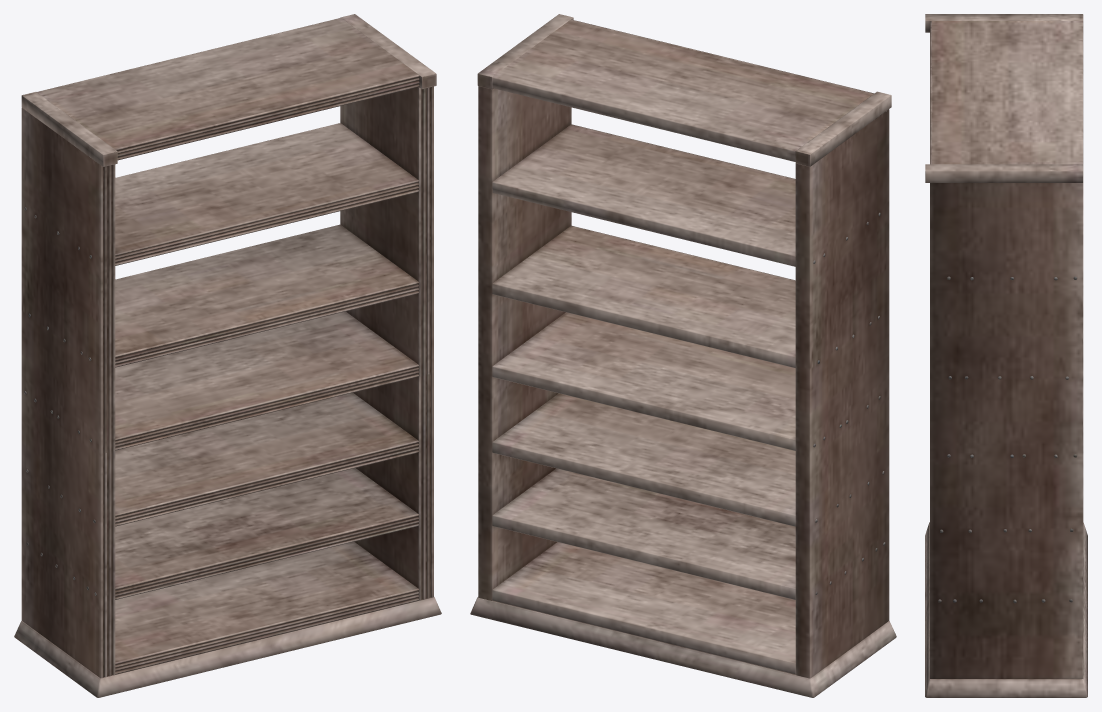
The model's file is shelf_tall_worn.glb.
The picture shows the model from 3 angles, left to right: view 1: azimuth 30°, elevation 25°; view 2: azimuth 150°, elevation 25°; view 3: azimuth 270°, elevation 25°; orthographic projection. The views are drawn at different scales.
Visible parts, largest first — view 1: wooden_bookshelf_worn; view 2: wooden_bookshelf_worn; view 3: wooden_bookshelf_worn.
Boxes of the visible parts, box(x1,y1,x2,y2) form: wooden_bookshelf_worn: box(14, 14, 441, 697); wooden_bookshelf_worn: box(470, 14, 896, 697); wooden_bookshelf_worn: box(925, 14, 1087, 697).
Bounding box in the file's own units: 1.37 × 2.06 × 0.5813.
1 material, 1 textured.
